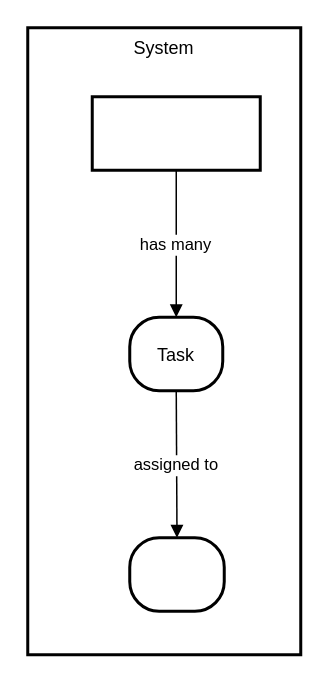
Some shapes in this 327 by 681 pixel diagram are drawn without their labels. The box of each missing label's shape, as (x1, y1, x2, y2) in pixels:
Project: (90, 94, 261, 171)
User: (128, 536, 225, 612)
